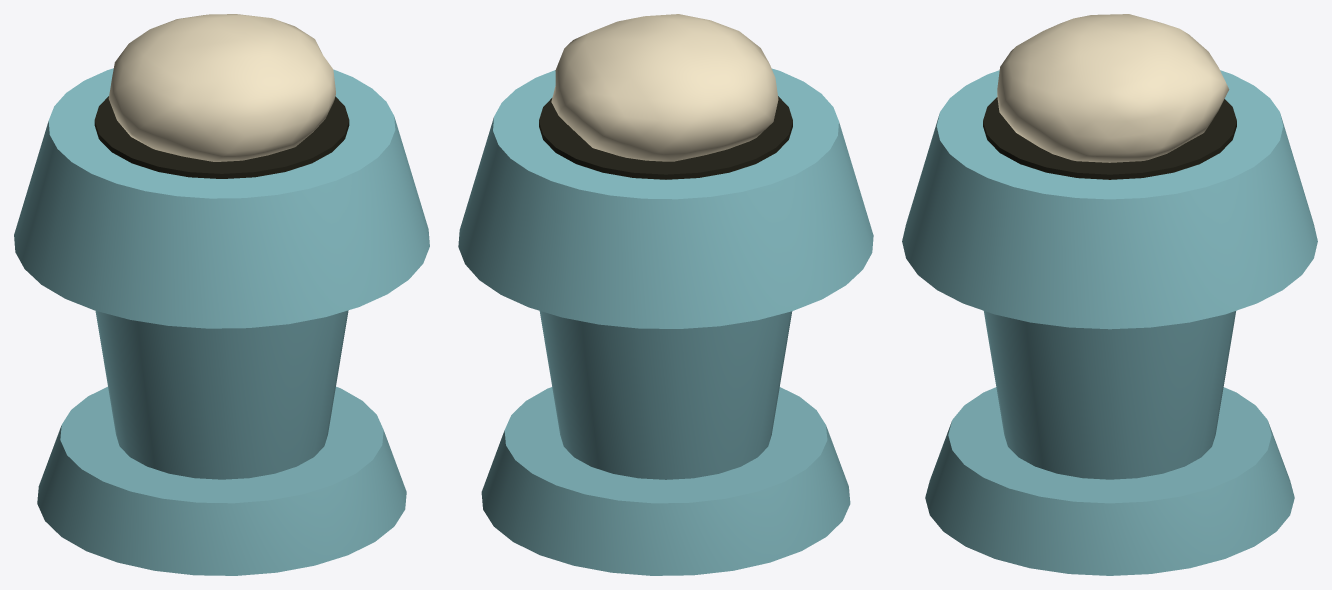
Rendered from glass.glb.
3 views of the same model, side by side, from view 1: azimuth 30°, elevation 25°; view 2: azimuth 150°, elevation 25°; view 3: azimuth 270°, elevation 25° (orthographic).
Visible parts, largest first — view 1: anim-hero@-foot; view 2: anim-hero@-foot; view 3: anim-hero@-foot.
Boxes of the visible parts, left/top/right/bottom form: anim-hero@-foot: left=14, top=14, right=429, bottom=575; anim-hero@-foot: left=458, top=14, right=873, bottom=575; anim-hero@-foot: left=902, top=14, right=1317, bottom=575.
Bounding box in the file's own units: 0.36 × 0.4456 × 0.36.
